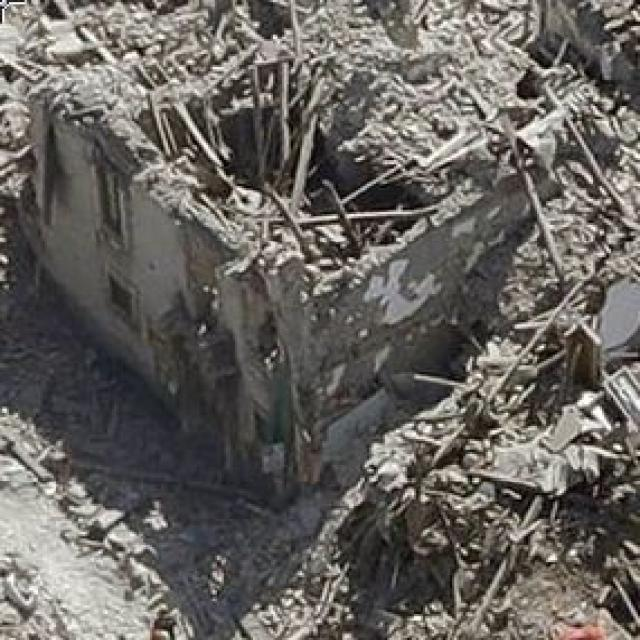collapsed_building: (0, 0, 564, 493)
